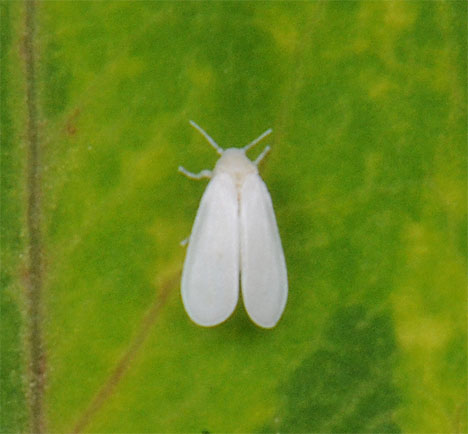whitefly: (174, 116, 289, 332)
